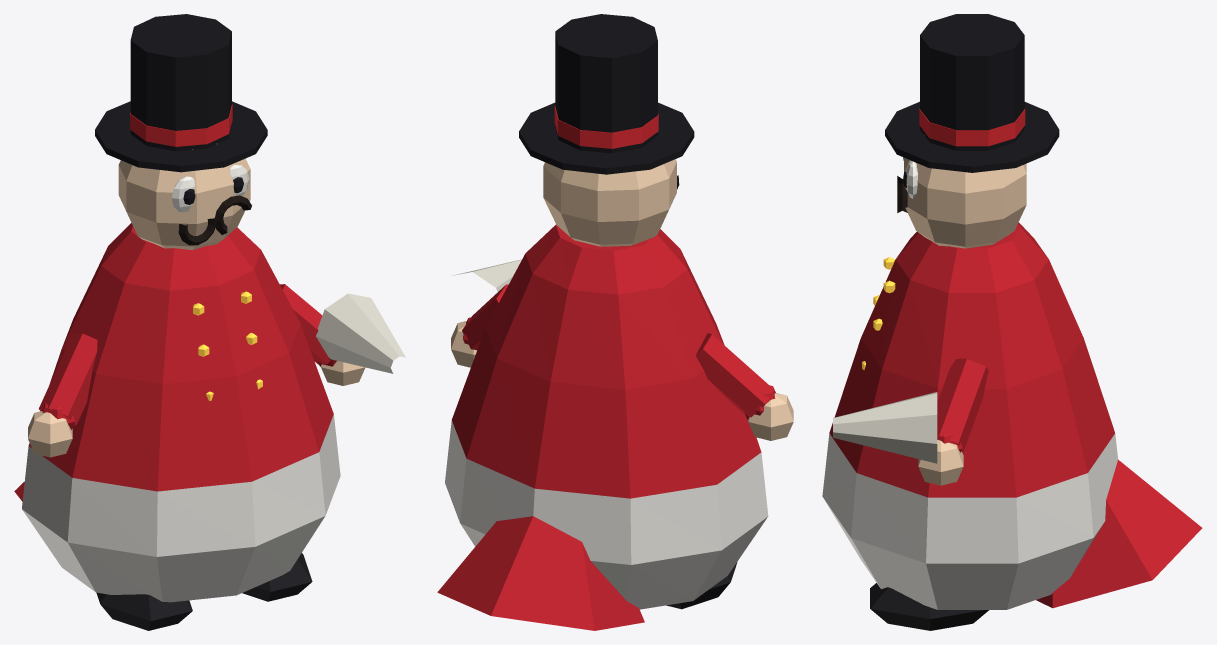
The model's file is npc_director.glb.
3 views of the same model, side by side, from view 1: azimuth 30°, elevation 25°; view 2: azimuth 150°, elevation 25°; view 3: azimuth 270°, elevation 25° (orthographic).
Parts seen in each view (by area): view 1: body_ringmaster_coat, body_white, cap_black, head_skin_crema, props_megaphone, arms_ringmaster_coat, legs_boots_black, arms_skin_crema, cap_clown_red, face_mustache_black, face_white, body_gold; view 2: body_ringmaster_coat, body_white, cap_black, head_skin_crema, arms_ringmaster_coat, arms_skin_crema, cap_clown_red, props_megaphone, legs_boots_black; view 3: body_ringmaster_coat, body_white, cap_black, head_skin_crema, props_megaphone, arms_ringmaster_coat, legs_boots_black, cap_clown_red, arms_skin_crema.
Part boxes in pixels (left/top/right/bottom): body_ringmaster_coat: left=14, top=223, right=333, bottom=501; body_white: left=22, top=414, right=340, bottom=602; cap_black: left=95, top=14, right=267, bottom=172; head_skin_crema: left=118, top=149, right=250, bottom=250; props_megaphone: left=316, top=293, right=405, bottom=373; arms_ringmaster_coat: left=39, top=284, right=336, bottom=429; legs_boots_black: left=96, top=553, right=312, bottom=630; arms_skin_crema: left=28, top=361, right=365, bottom=457; cap_clown_red: left=130, top=104, right=232, bottom=146; face_mustache_black: left=178, top=195, right=251, bottom=245; face_white: left=171, top=164, right=249, bottom=212; body_gold: left=193, top=291, right=262, bottom=400; body_ringmaster_coat: left=437, top=224, right=761, bottom=630; body_white: left=445, top=420, right=768, bottom=609; cap_black: left=519, top=14, right=694, bottom=174; head_skin_crema: left=543, top=159, right=676, bottom=246; arms_ringmaster_coat: left=462, top=284, right=775, bottom=419; arms_skin_crema: left=451, top=321, right=793, bottom=440; cap_clown_red: left=554, top=106, right=658, bottom=148; props_megaphone: left=451, top=259, right=521, bottom=291; legs_boots_black: left=666, top=562, right=737, bottom=609; body_ringmaster_coat: left=829, top=222, right=1202, bottom=608; body_white: left=822, top=433, right=1117, bottom=609; cap_black: left=885, top=14, right=1059, bottom=172; head_skin_crema: left=904, top=135, right=1026, bottom=248; props_megaphone: left=833, top=392, right=937, bottom=463; arms_ringmaster_coat: left=937, top=358, right=988, bottom=452; legs_boots_black: left=870, top=583, right=988, bottom=630; cap_clown_red: left=919, top=109, right=1025, bottom=146; arms_skin_crema: left=918, top=440, right=963, bottom=485.
Size of the model in its own units: 1.18 by 1.77 by 1.09.
